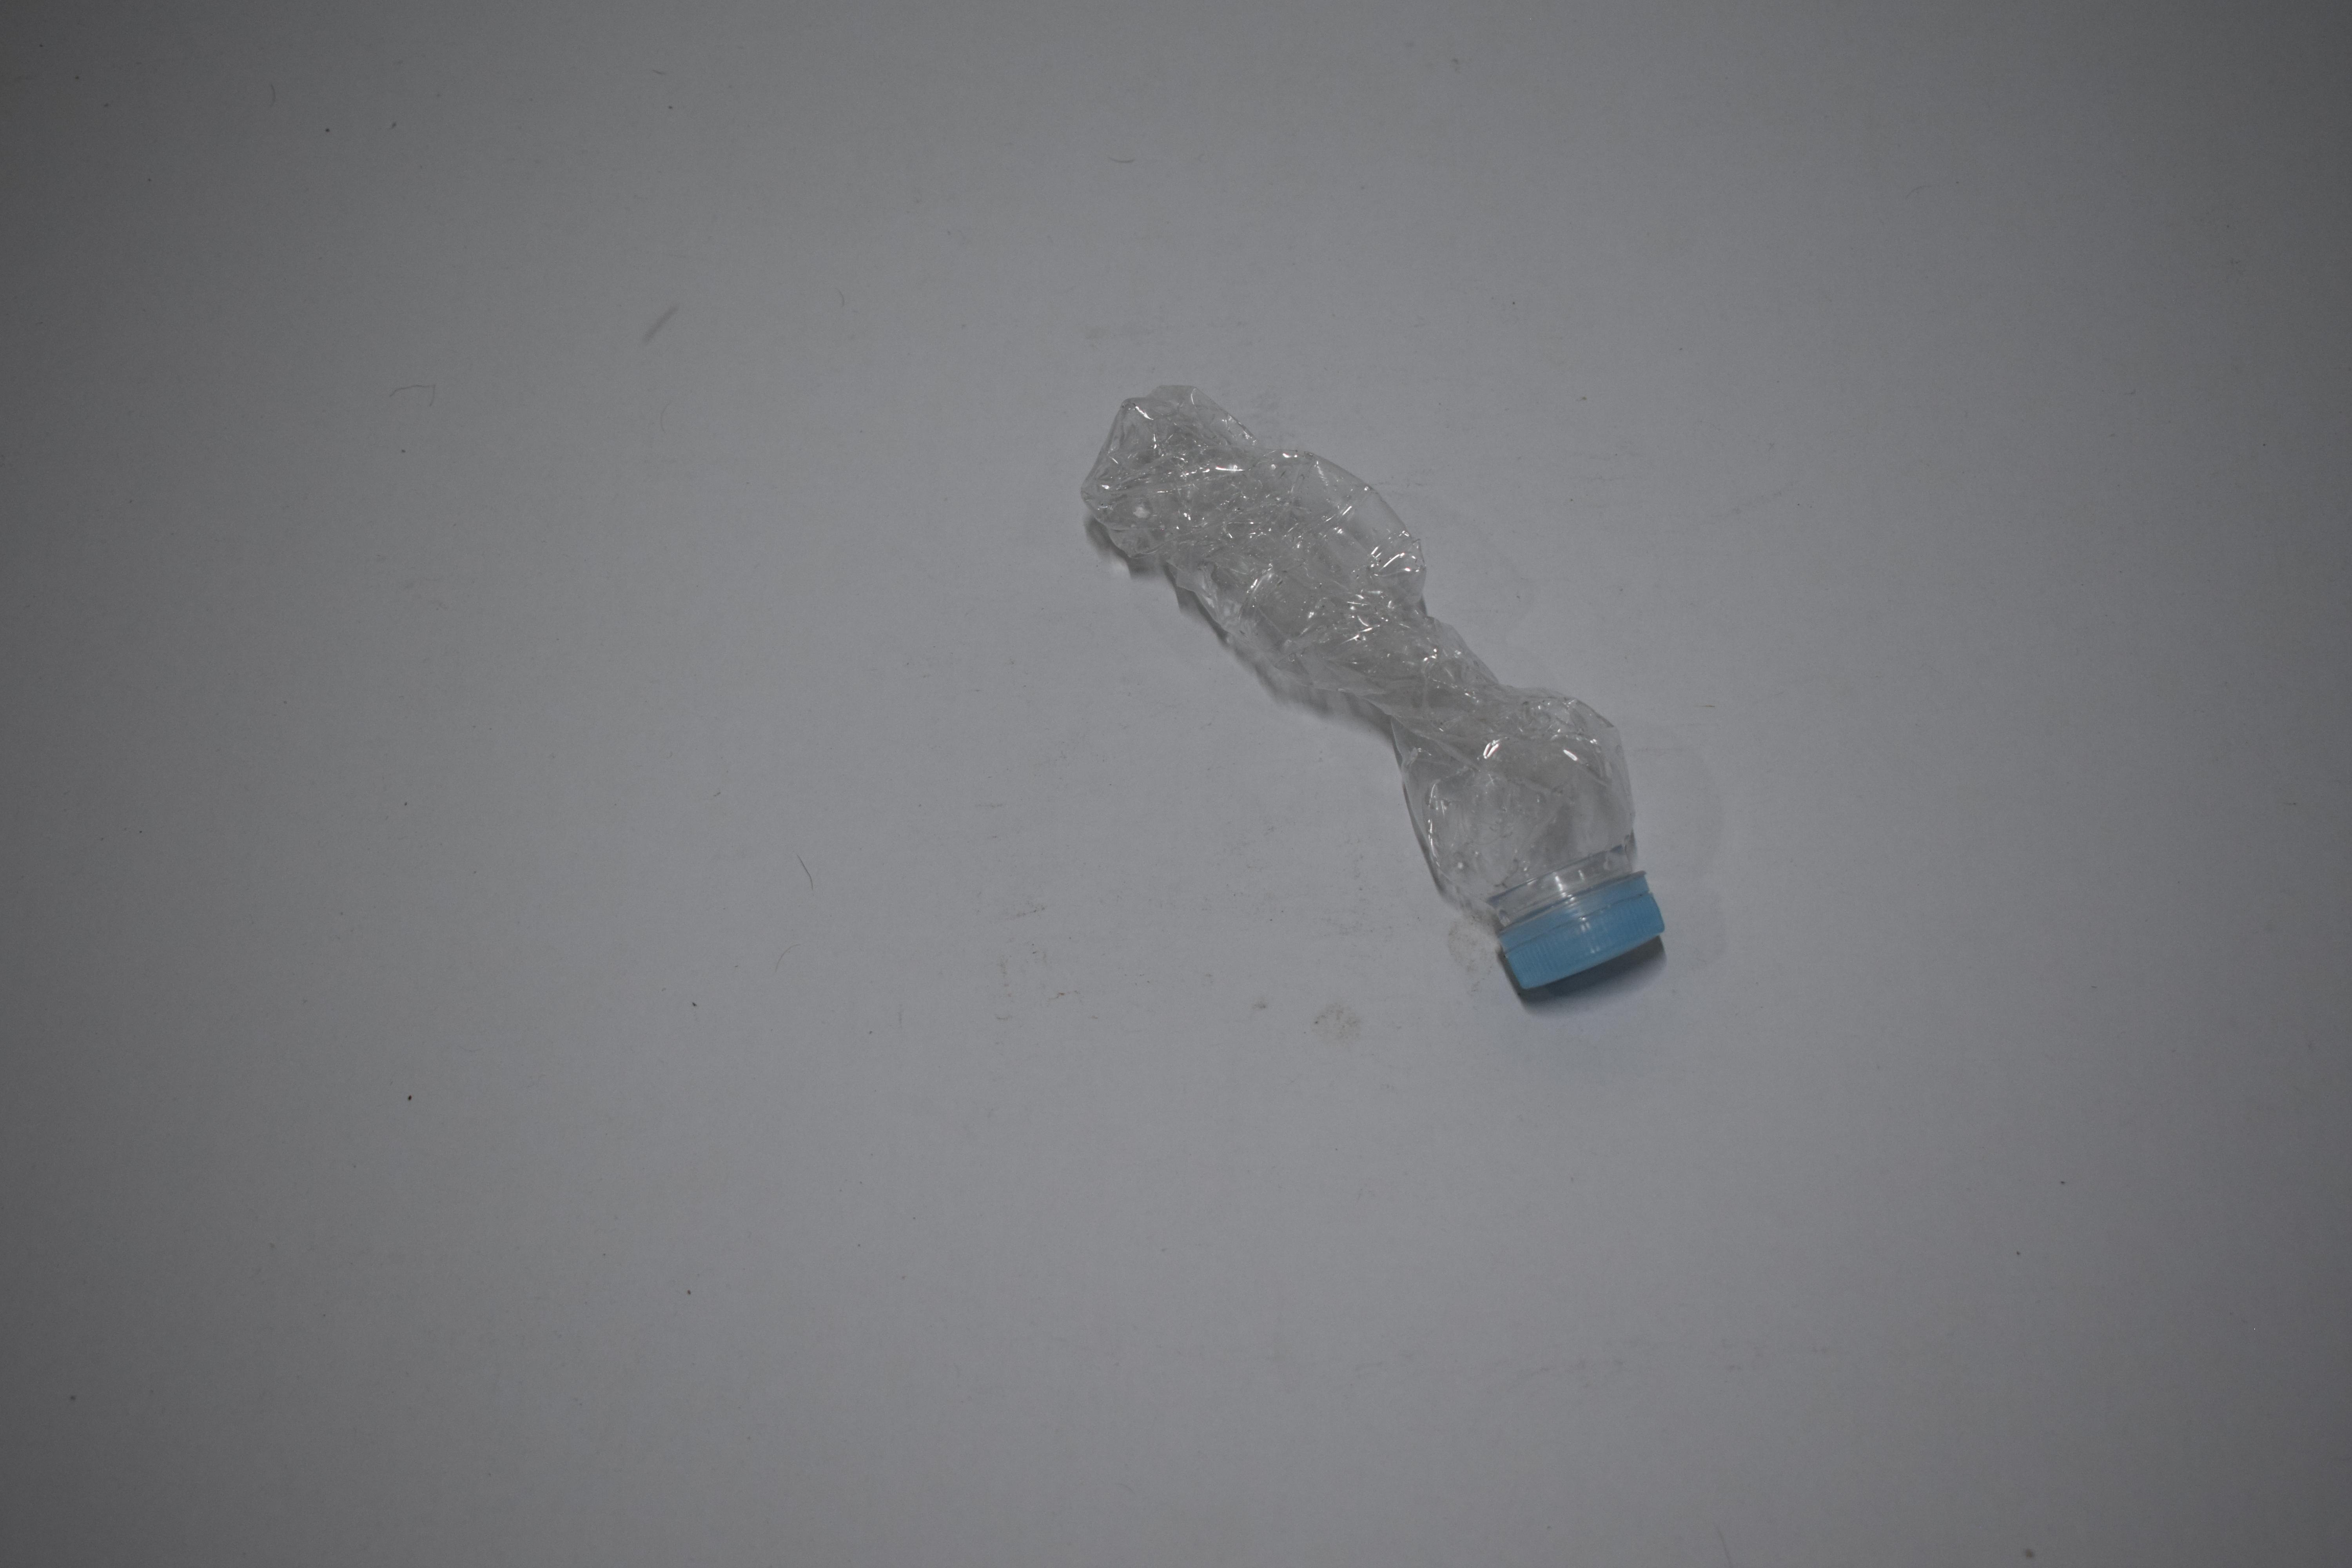bottle: (0, 369, 434, 1006)
